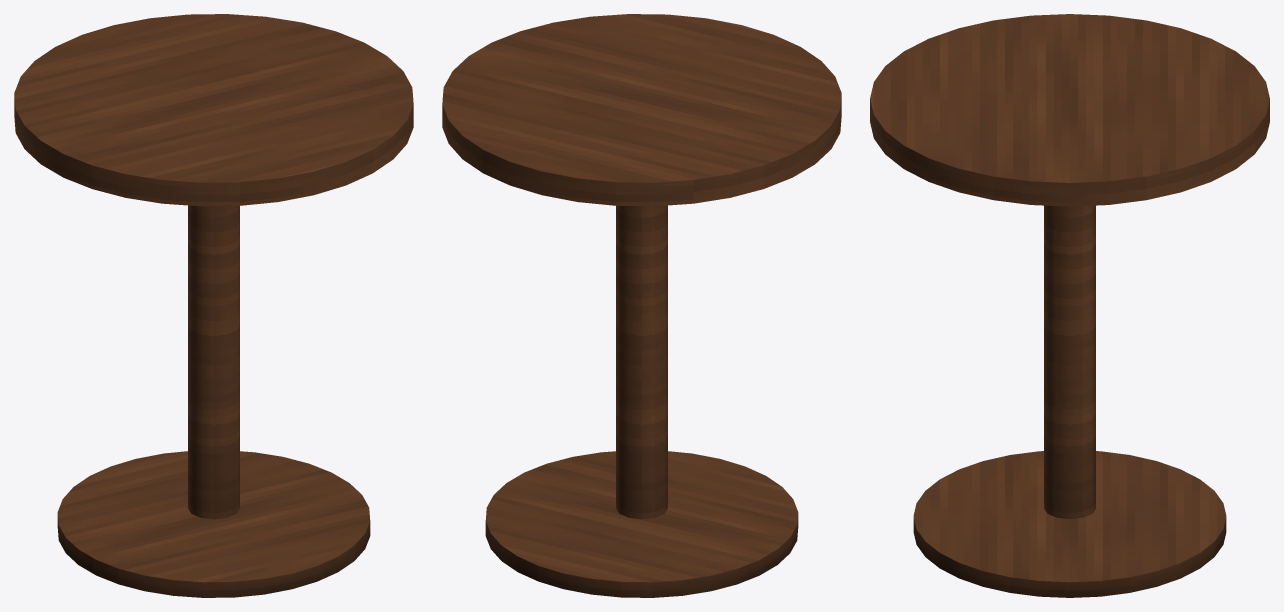
The model's file is side_table.glb.
3 views of the same model, side by side, from view 1: azimuth 30°, elevation 25°; view 2: azimuth 150°, elevation 25°; view 3: azimuth 270°, elevation 25° (orthographic).
Parts seen in each view (by area): view 1: body; view 2: body; view 3: body.
Boxes of the visible parts, bbox=[...] form: body: bbox=[14, 14, 413, 597]; body: bbox=[442, 14, 841, 597]; body: bbox=[870, 14, 1269, 597].
Size of what is drawn, in the model's own units: 0.46 by 0.55 by 0.46.
Materials: 1 (1 with a texture image).
